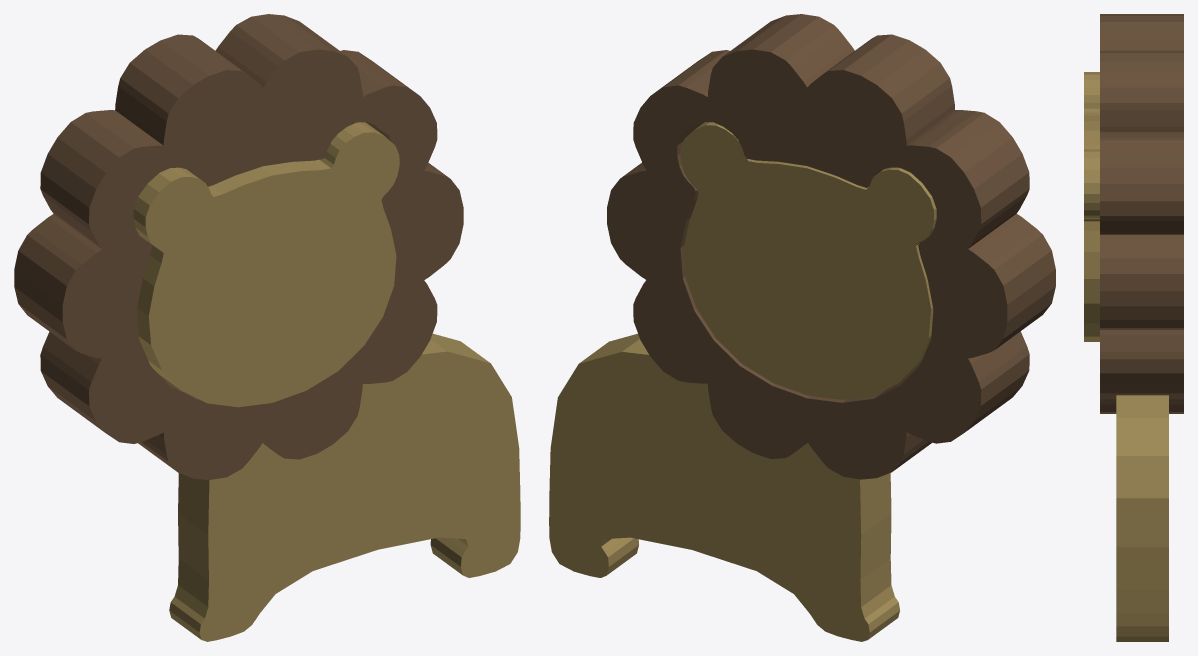
3 renders of one model, left to right at view 1: azimuth 30°, elevation 25°; view 2: azimuth 150°, elevation 25°; view 3: azimuth 270°, elevation 25°, orthographic. The views are drawn at different scales.
Parts seen in each view (by area): view 1: 円, 平面.002, 平面.001; view 2: 円, 平面.002, 平面.001; view 3: 円, 平面.002, 平面.001.
Part boxes in pixels (x1,y1,x2,y2): 円: [14, 14, 463, 479]; 平面.002: [169, 333, 520, 641]; 平面.001: [133, 122, 399, 407]; 円: [607, 14, 1055, 479]; 平面.002: [549, 333, 899, 641]; 平面.001: [680, 122, 936, 399]; 円: [1100, 14, 1183, 413]; 平面.002: [1116, 395, 1168, 641]; 平面.001: [1084, 72, 1099, 341].
Size of the model in its own units: 3.98 by 4.7 by 0.8512.
